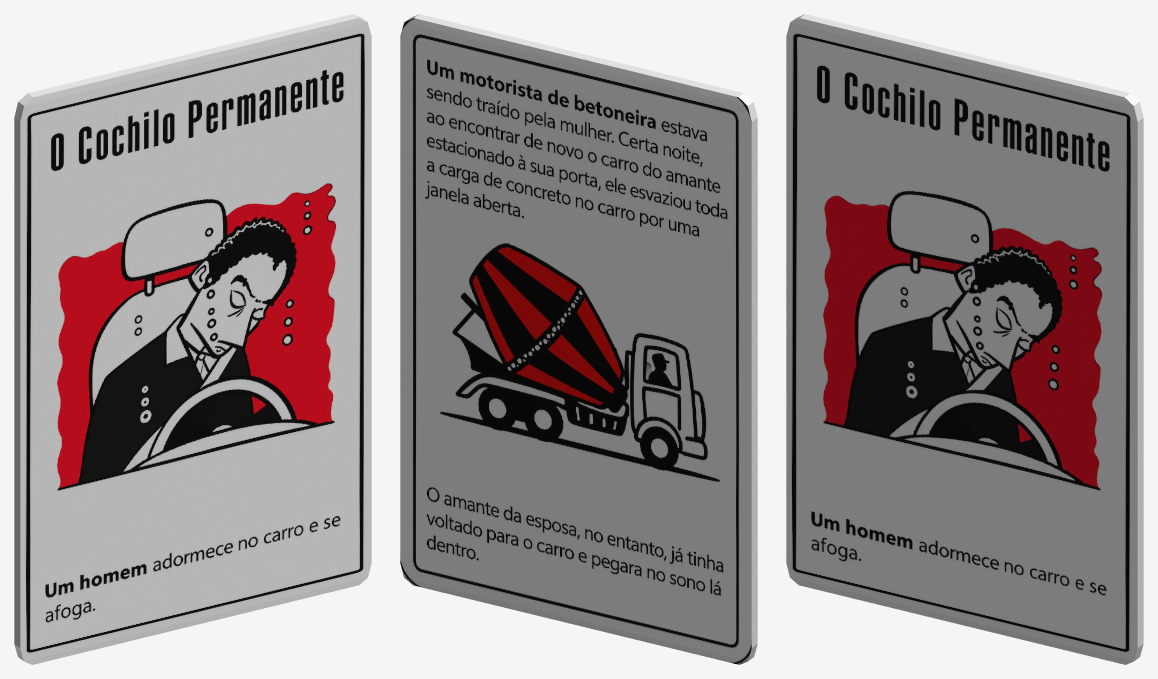
Rendered from CartaDoJogoCutscene.fbx.
3 renders of one model, left to right at view 1: azimuth 30°, elevation 25°; view 2: azimuth 150°, elevation 25°; view 3: azimuth 330°, elevation 25°, orthographic.
Visible parts, largest first — view 1: Cube; view 2: Cube.001, Cube; view 3: Cube.
Boxes of the visible parts, x1,y1,x2,y2 form: Cube: (14, 14, 371, 664); Cube.001: (400, 18, 751, 664); Cube: (405, 14, 757, 660); Cube: (786, 14, 1143, 664).
Size of the model in its own units: 269 by 415 by 8.03.
